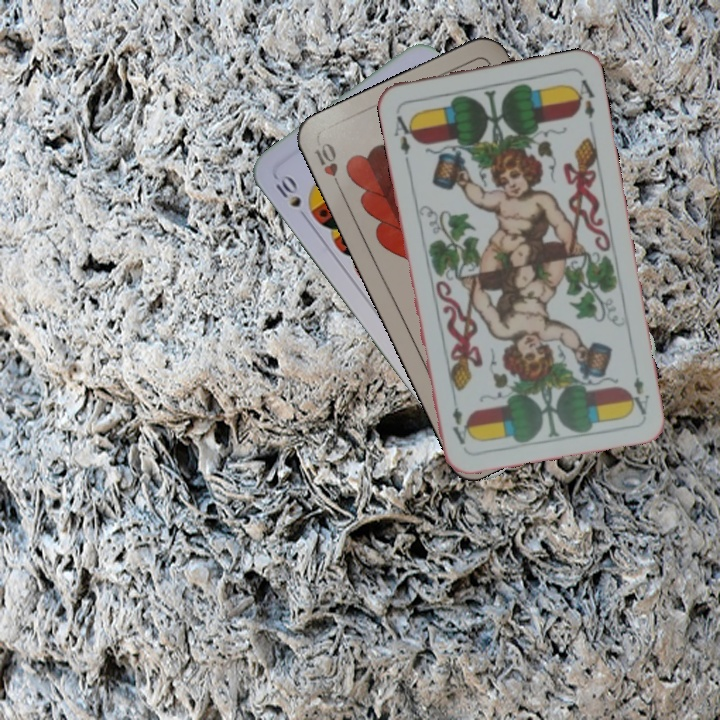EA: (389, 111, 418, 165), (624, 372, 652, 418)
H10: (310, 138, 345, 195)
S10: (271, 171, 311, 223)
